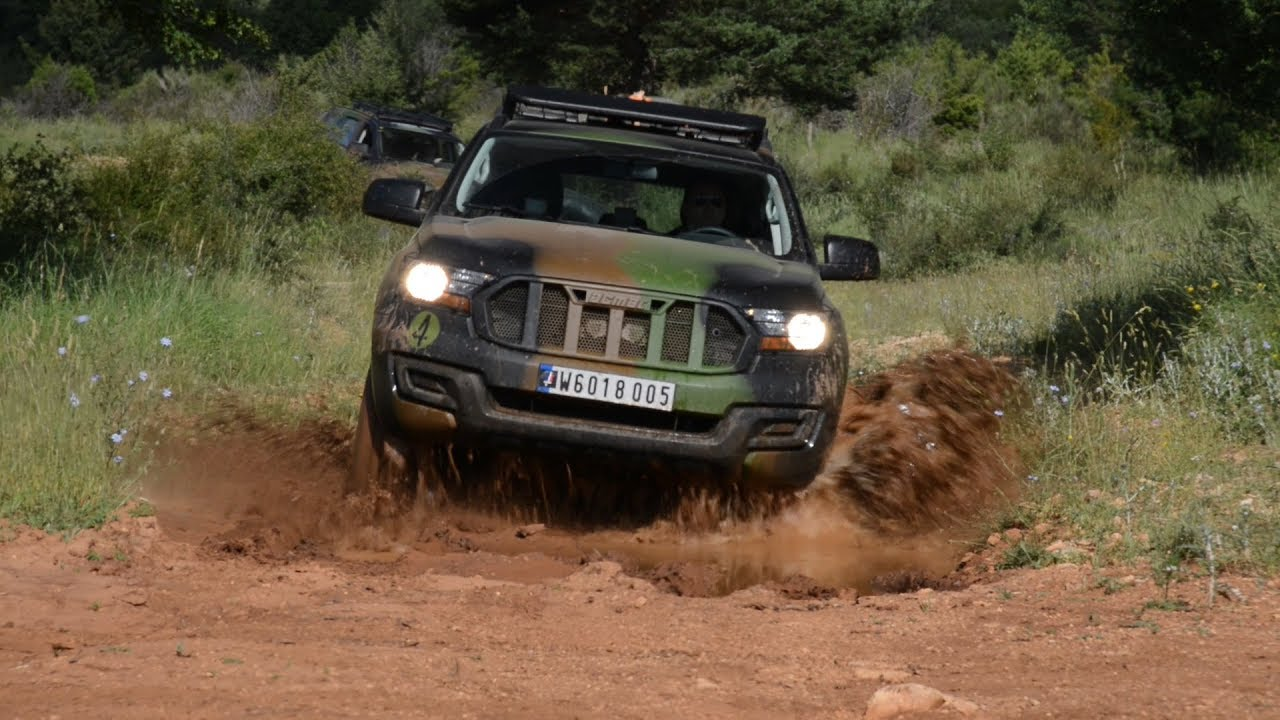license_plate: (542, 361, 685, 415)
